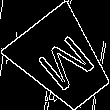M_SE: (28, 27, 98, 95)
